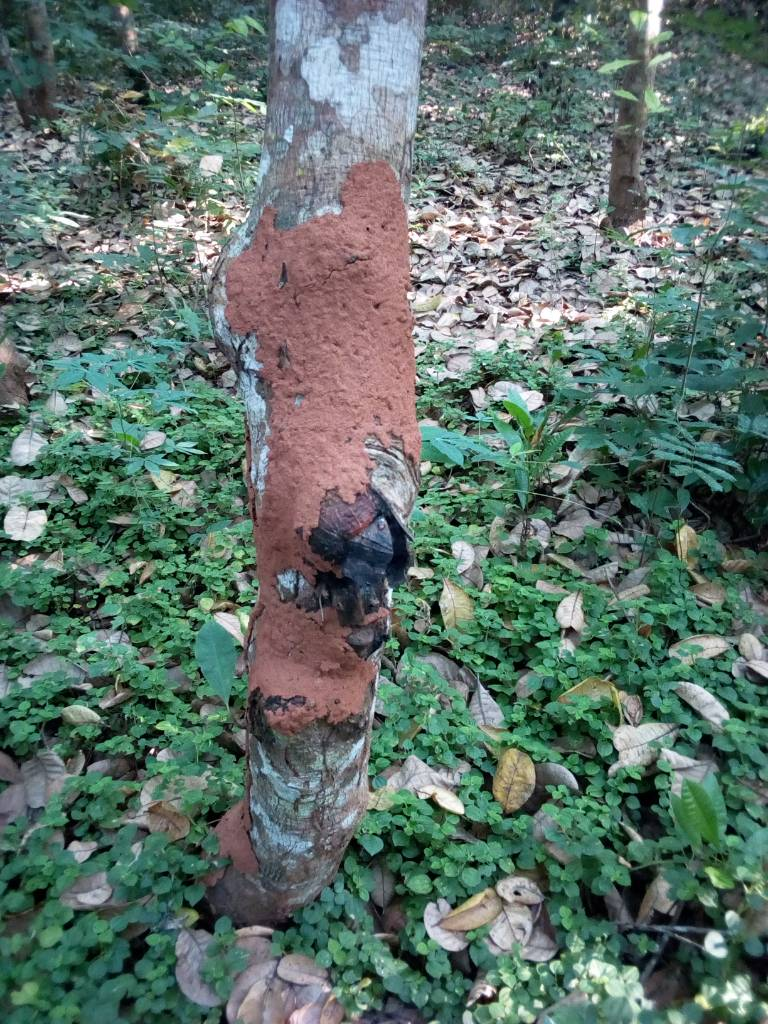Termites: (241, 160, 416, 722)
